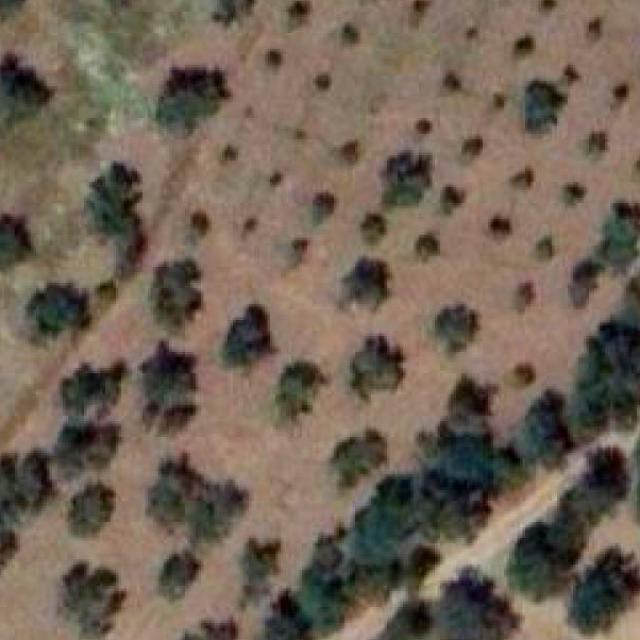Tree: (146, 453, 246, 544), (570, 318, 640, 429), (425, 573, 525, 640), (567, 546, 640, 633), (139, 341, 196, 433), (154, 68, 230, 131), (85, 163, 143, 244), (61, 561, 123, 636), (508, 530, 573, 600), (517, 389, 573, 467), (60, 362, 124, 419), (150, 258, 201, 328), (51, 425, 118, 478), (349, 336, 403, 401), (327, 428, 384, 487), (222, 304, 273, 366), (27, 283, 89, 334), (276, 360, 326, 421), (0, 54, 52, 109), (597, 203, 637, 270), (341, 256, 389, 310), (69, 483, 113, 538), (242, 541, 278, 608), (260, 591, 308, 640), (386, 155, 429, 209), (432, 304, 477, 354), (16, 451, 52, 510), (525, 81, 566, 132), (564, 256, 600, 310), (159, 554, 198, 602), (0, 214, 33, 269), (179, 620, 235, 640), (0, 528, 20, 580), (214, 0, 255, 23), (0, 0, 36, 20), (312, 193, 334, 225), (415, 233, 440, 261), (238, 214, 260, 244), (562, 182, 589, 206), (366, 214, 387, 244), (514, 282, 534, 312), (513, 166, 538, 189), (288, 235, 315, 256), (264, 166, 286, 190), (442, 190, 463, 215), (312, 70, 334, 92), (513, 365, 536, 386), (188, 212, 208, 235), (218, 144, 241, 164), (536, 238, 555, 262), (339, 142, 358, 166), (288, 1, 309, 22), (587, 132, 607, 154), (512, 37, 532, 58), (488, 217, 509, 236), (462, 137, 481, 156), (442, 74, 462, 92), (586, 17, 602, 39), (562, 65, 578, 86), (342, 26, 358, 44), (264, 49, 280, 67), (611, 84, 626, 101), (414, 1, 429, 17), (416, 121, 432, 135), (539, 0, 554, 12), (494, 94, 504, 109), (636, 152, 640, 174)
